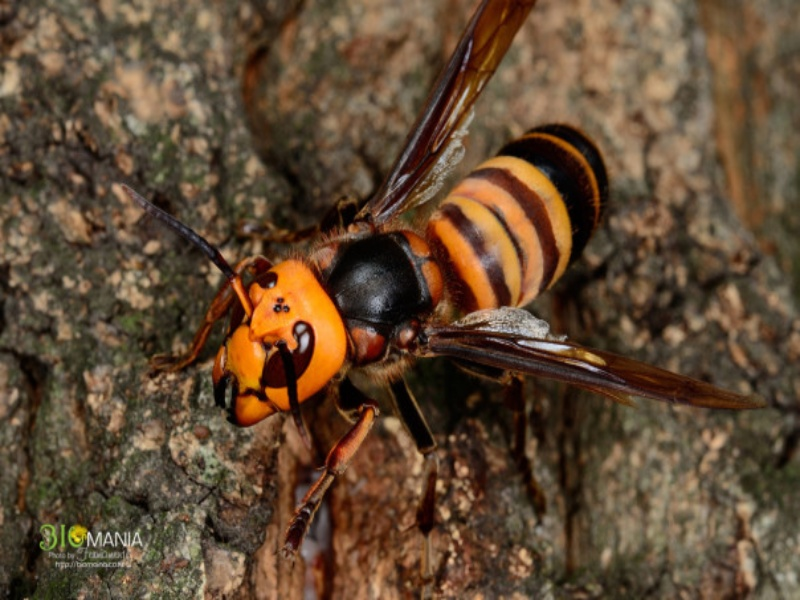asian_giant_hornet: (148, 2, 612, 490)
